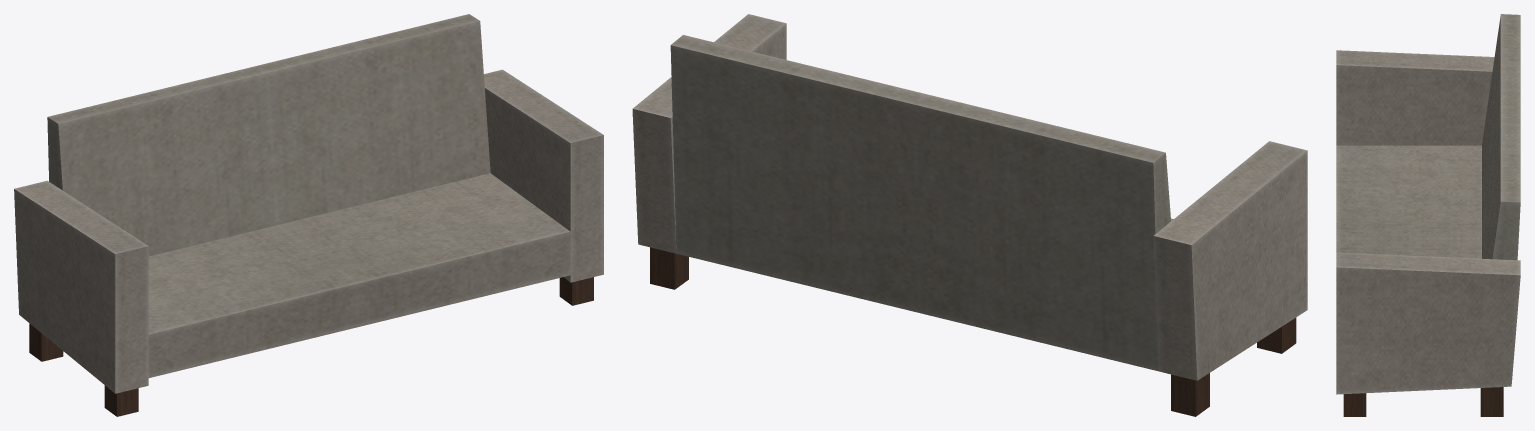
The model's file is Couch_1B.fbx.
The picture shows the model from 3 angles, left to right: view 1: azimuth 30°, elevation 25°; view 2: azimuth 150°, elevation 25°; view 3: azimuth 270°, elevation 25°; orthographic projection. The views are drawn at different scales.
Parts seen in each view (by area): view 1: polySurface1529; view 2: polySurface1529; view 3: polySurface1529.
Part boxes in pixels (left/top/right/bottom): polySurface1529: left=14, top=14, right=603, bottom=416; polySurface1529: left=632, top=14, right=1307, bottom=416; polySurface1529: left=1336, top=14, right=1520, bottom=416.
Bounding box in the file's own units: 2.93 × 1.28 × 1.05.
